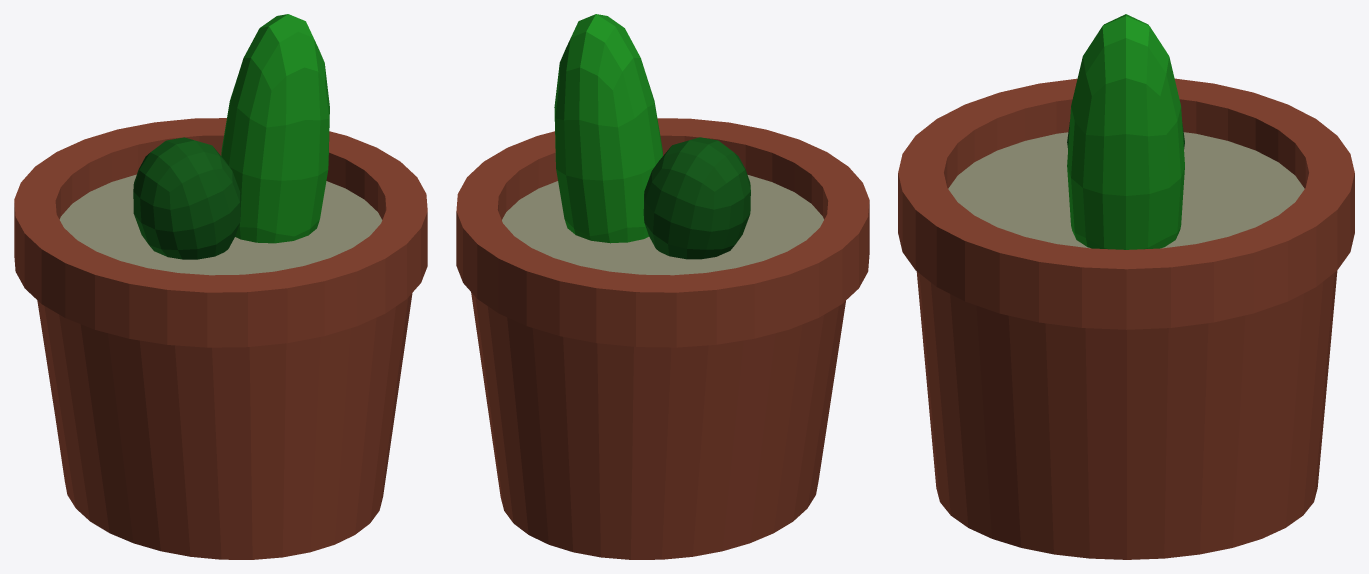
The model's file is cactus.fbx.
3 views of the same model, side by side, from view 1: azimuth 30°, elevation 25°; view 2: azimuth 150°, elevation 25°; view 3: azimuth 270°, elevation 25° (orthographic). The views are drawn at different scales.
Visible parts, largest first — view 1: Cylinder.002; view 2: Cylinder.002; view 3: Cylinder.002.
Boxes of the visible parts, x1,y1,x2,y2 form: Cylinder.002: (14, 14, 427, 559); Cylinder.002: (456, 14, 869, 559); Cylinder.002: (898, 14, 1354, 559).
Bounding box in the file's own units: 34 × 41.61 × 34.
